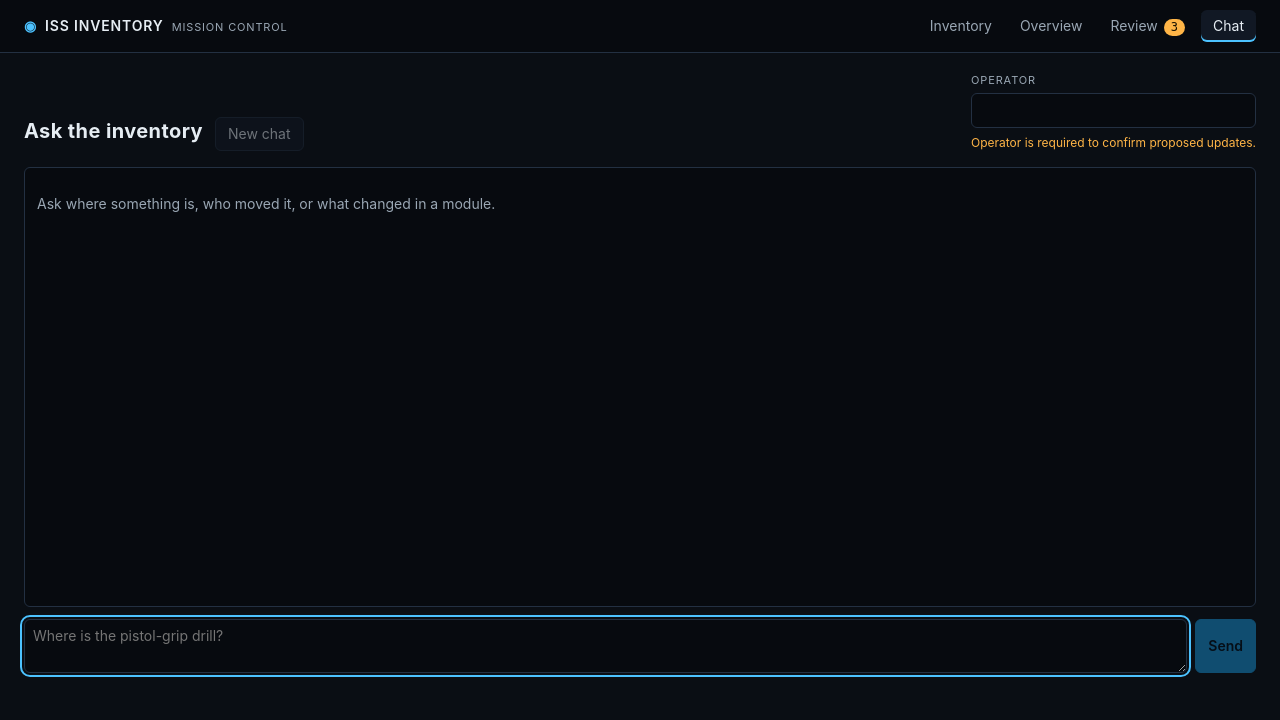
AC-UI-8 streaming › AC-UI-8 tokens render incrementally before the stream completes
Later steps or results of the test are not shown.
In the text box named "message": (606, 646) x1=24 y1=619 x2=1187 y2=673, type "where is the drill?"
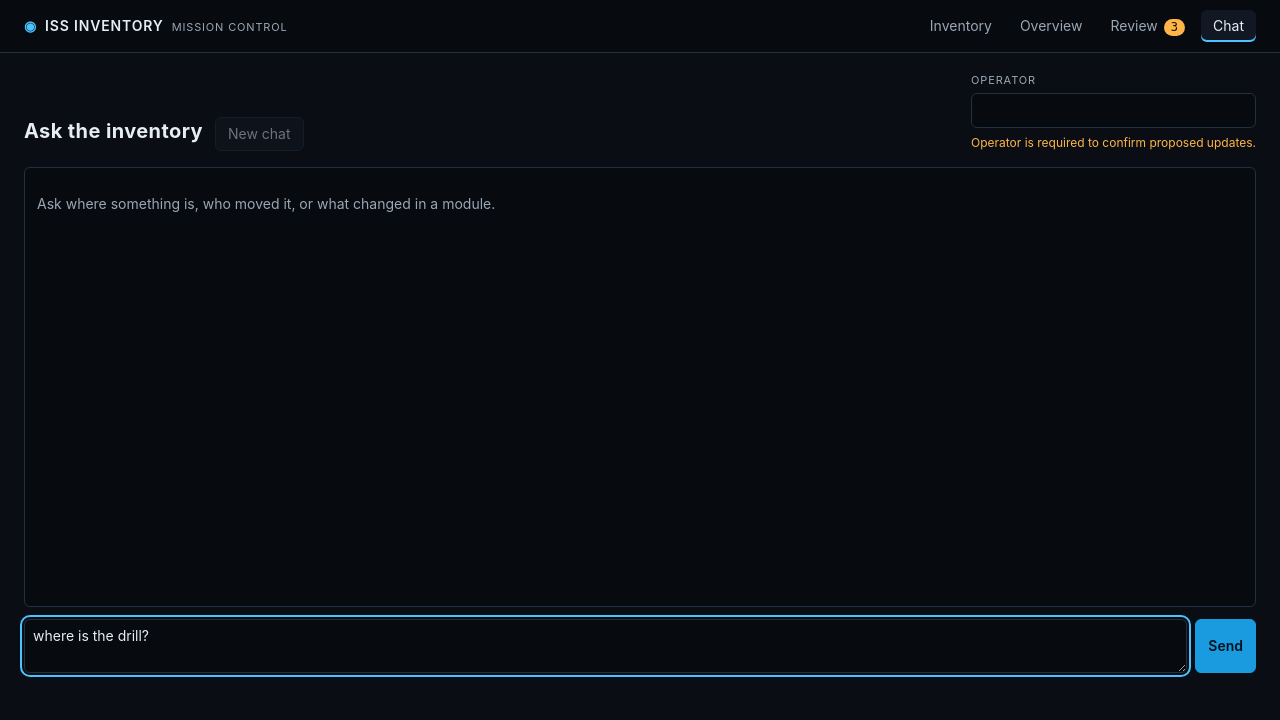
Click the button "Send": (1226, 646) x1=1195 y1=619 x2=1256 y2=673
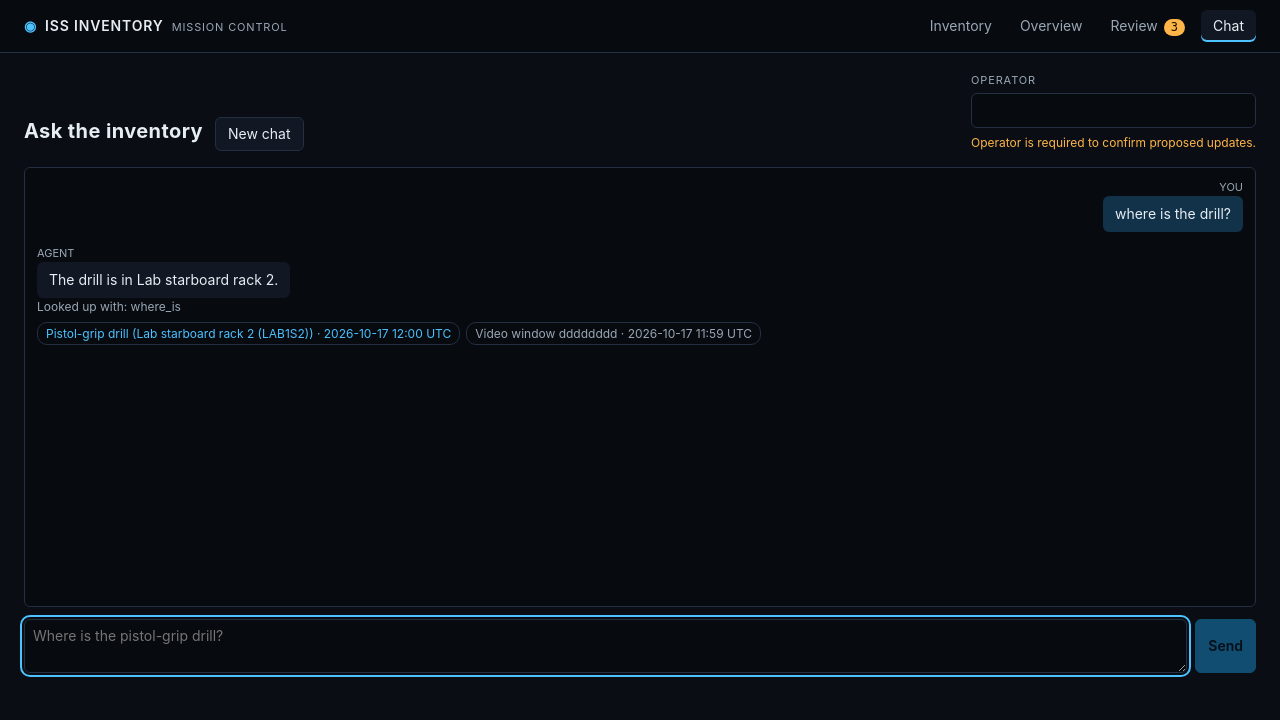
Expected: the element named "Conversation" shows "The drill is in", x1=49 y1=271 x2=278 y2=288
Expected: the element named "Conversation" shows "The drill is in Lab starboard rack 2.", x1=49 y1=271 x2=278 y2=288
